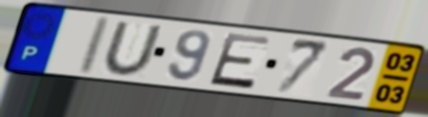2: (323, 45, 377, 102)
7: (275, 36, 333, 97)
9: (165, 29, 213, 83)
E: (205, 31, 274, 91)
I: (74, 14, 115, 77)
U: (101, 20, 166, 78)
